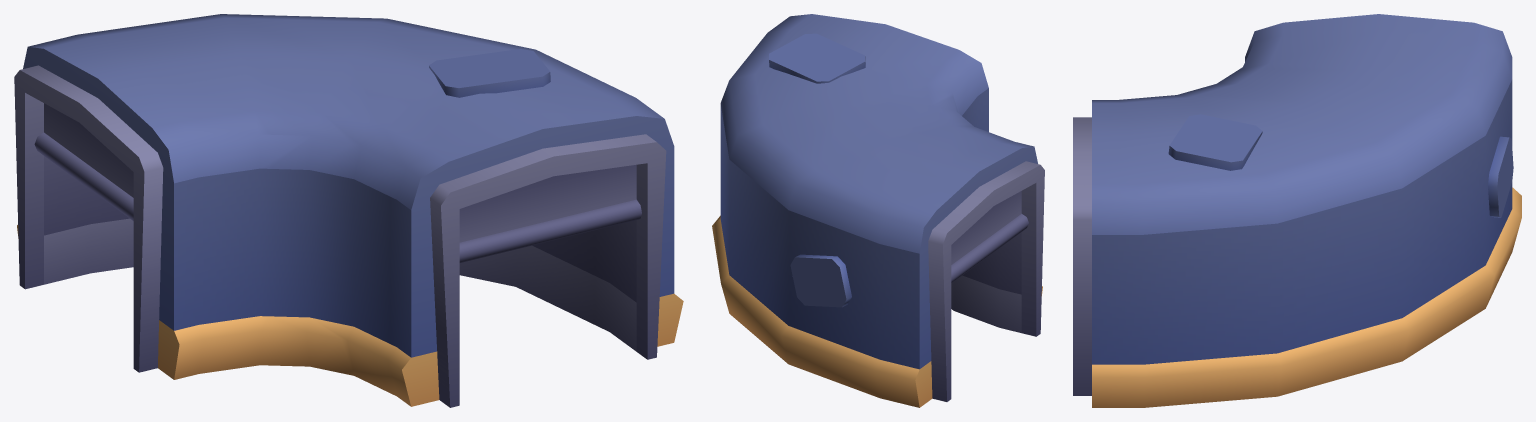
Rendered from machine-bed.glb.
The picture shows the model from 3 angles, left to right: view 1: azimuth 30°, elevation 25°; view 2: azimuth 150°, elevation 25°; view 3: azimuth 270°, elevation 25°; orthographic projection. The views are drawn at different scales.
Visible parts, largest first — view 1: machine-bed; view 2: machine-bed; view 3: machine-bed.
Boxes of the visible parts, <box> form: machine-bed: <box>14,14,683,407</box>; machine-bed: <box>712,14,1044,407</box>; machine-bed: <box>1073,14,1521,407</box>.
Bounding box in the file's own units: 2.35 × 1.3 × 2.35.
Materials: 1 (1 with a texture image).
